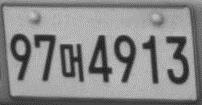1: (141, 34, 160, 84)
3: (164, 35, 190, 83)
4: (87, 33, 113, 82)
7: (33, 33, 57, 82)
9: (112, 33, 137, 82), (8, 32, 32, 81)
머: (59, 43, 85, 82)
